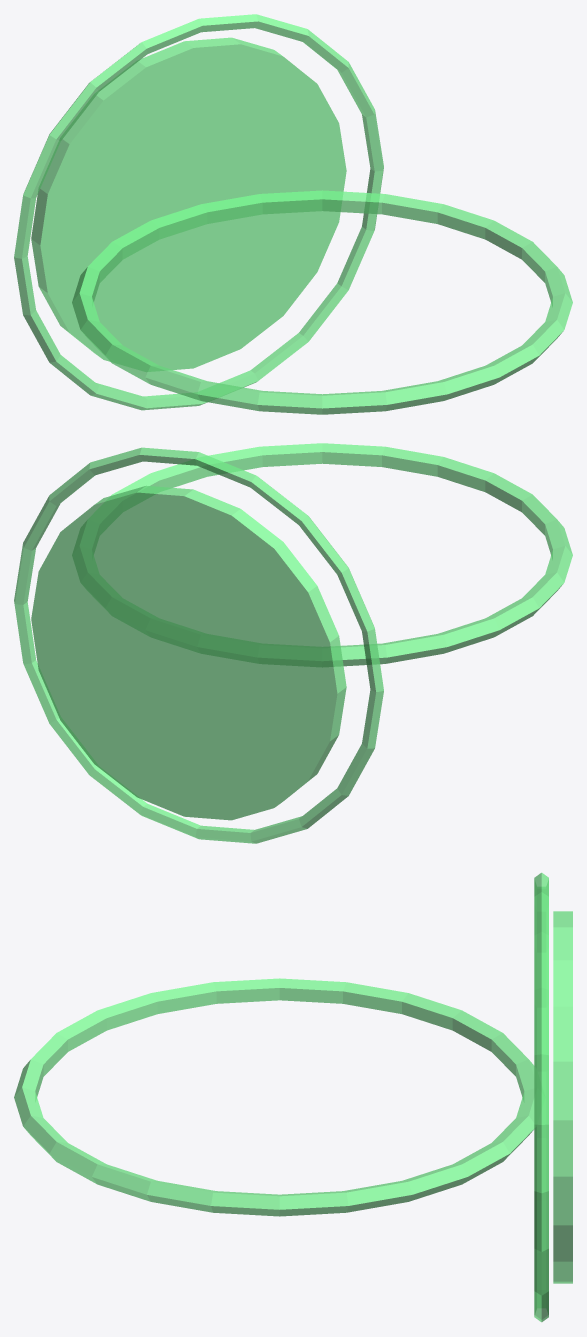
Rendered from 07_leaf_fall_swirl_proxy.glb.
The picture shows the model from 3 angles, top to bottom: view 1: azimuth 30°, elevation 25°; view 2: azimuth 150°, elevation 25°; view 3: azimuth 270°, elevation 25°; orthographic projection. The views are drawn at different scales.
Parts seen in each view (by area): view 1: base_disc, outline_ring, base_ring; view 2: base_disc, outline_ring, base_ring; view 3: outline_ring, base_disc, base_ring.
Part boxes in pixels (x1,y1,x2,y2): base_disc: (31,37,346,371); outline_ring: (72,190,572,414); base_ring: (14,14,383,410); base_disc: (31,485,346,820); outline_ring: (72,443,572,666); base_ring: (14,447,383,843); outline_ring: (14,978,544,1216); base_disc: (553,911,572,1283); base_ring: (534,872,548,1322).
Bounding box in the file's own units: 1.36 × 1.16 × 1.43.
